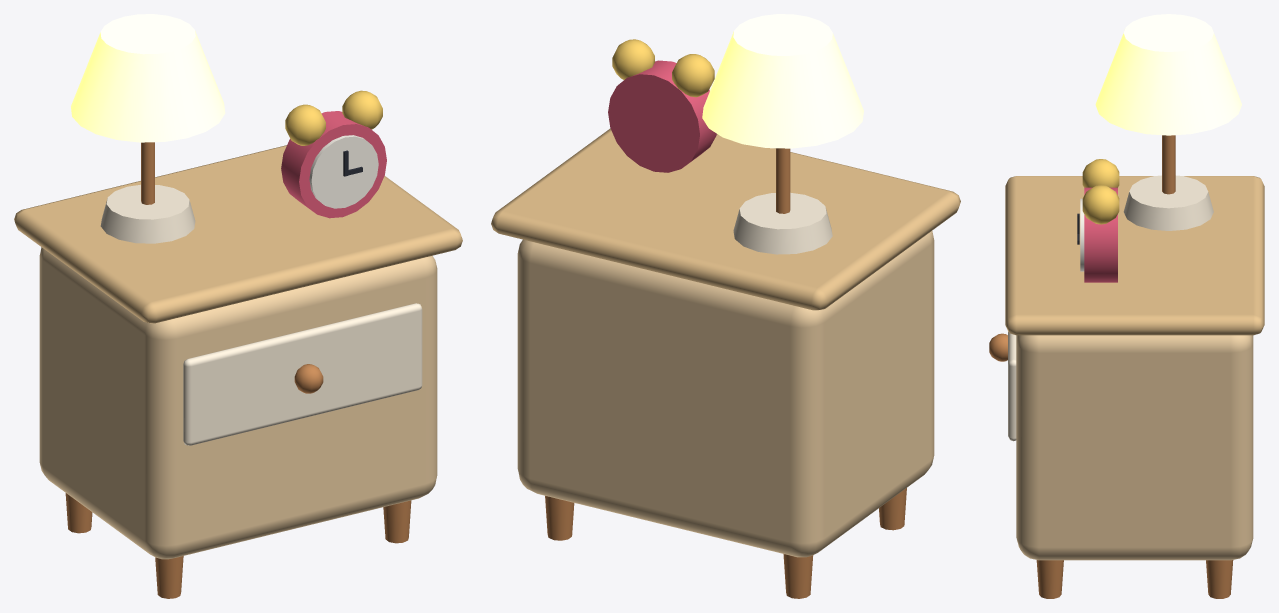
Rendered from bedside.glb.
3 views of the same model, side by side, from view 1: azimuth 30°, elevation 25°; view 2: azimuth 150°, elevation 25°; view 3: azimuth 270°, elevation 25° (orthographic). The views are drawn at different scales.
Size of the model in its own units: 0.62 by 0.93 by 0.4882.
